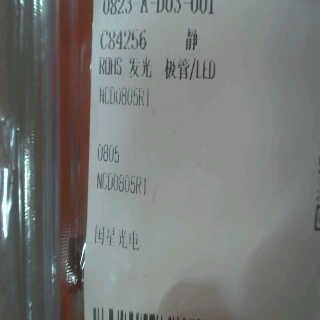LED: (126, 53, 221, 86)
